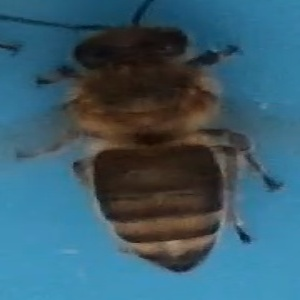bee: (30, 2, 285, 277)
